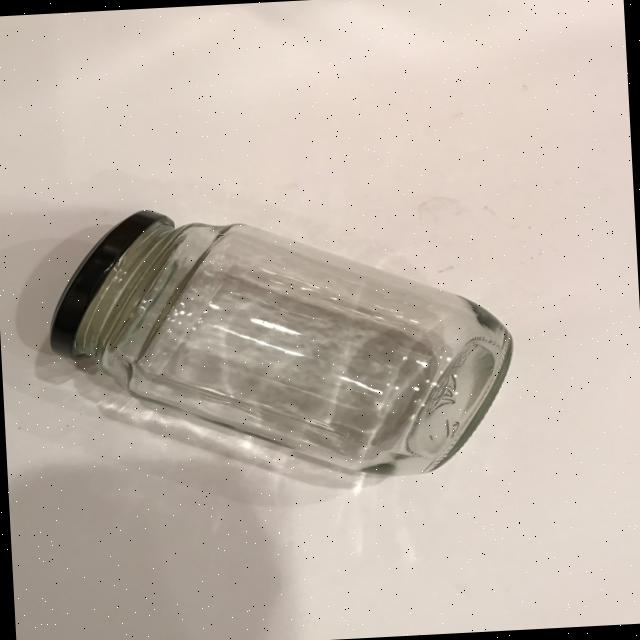glass: (22, 164, 540, 512)
